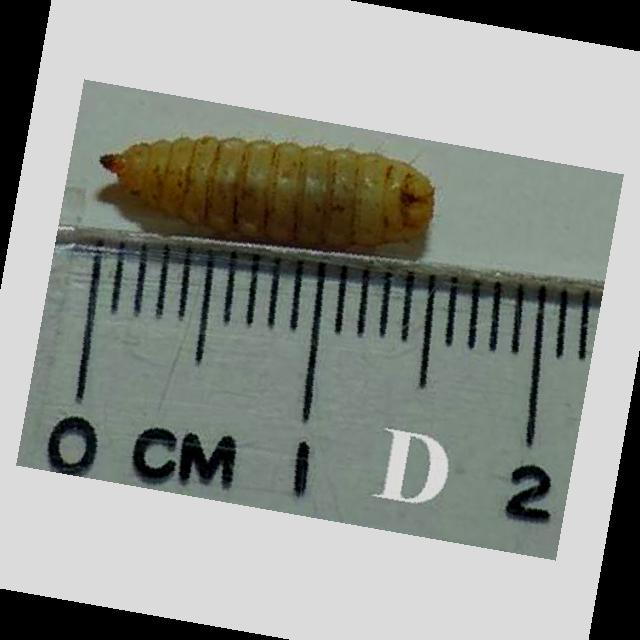Maggot: (97, 132, 438, 246)
